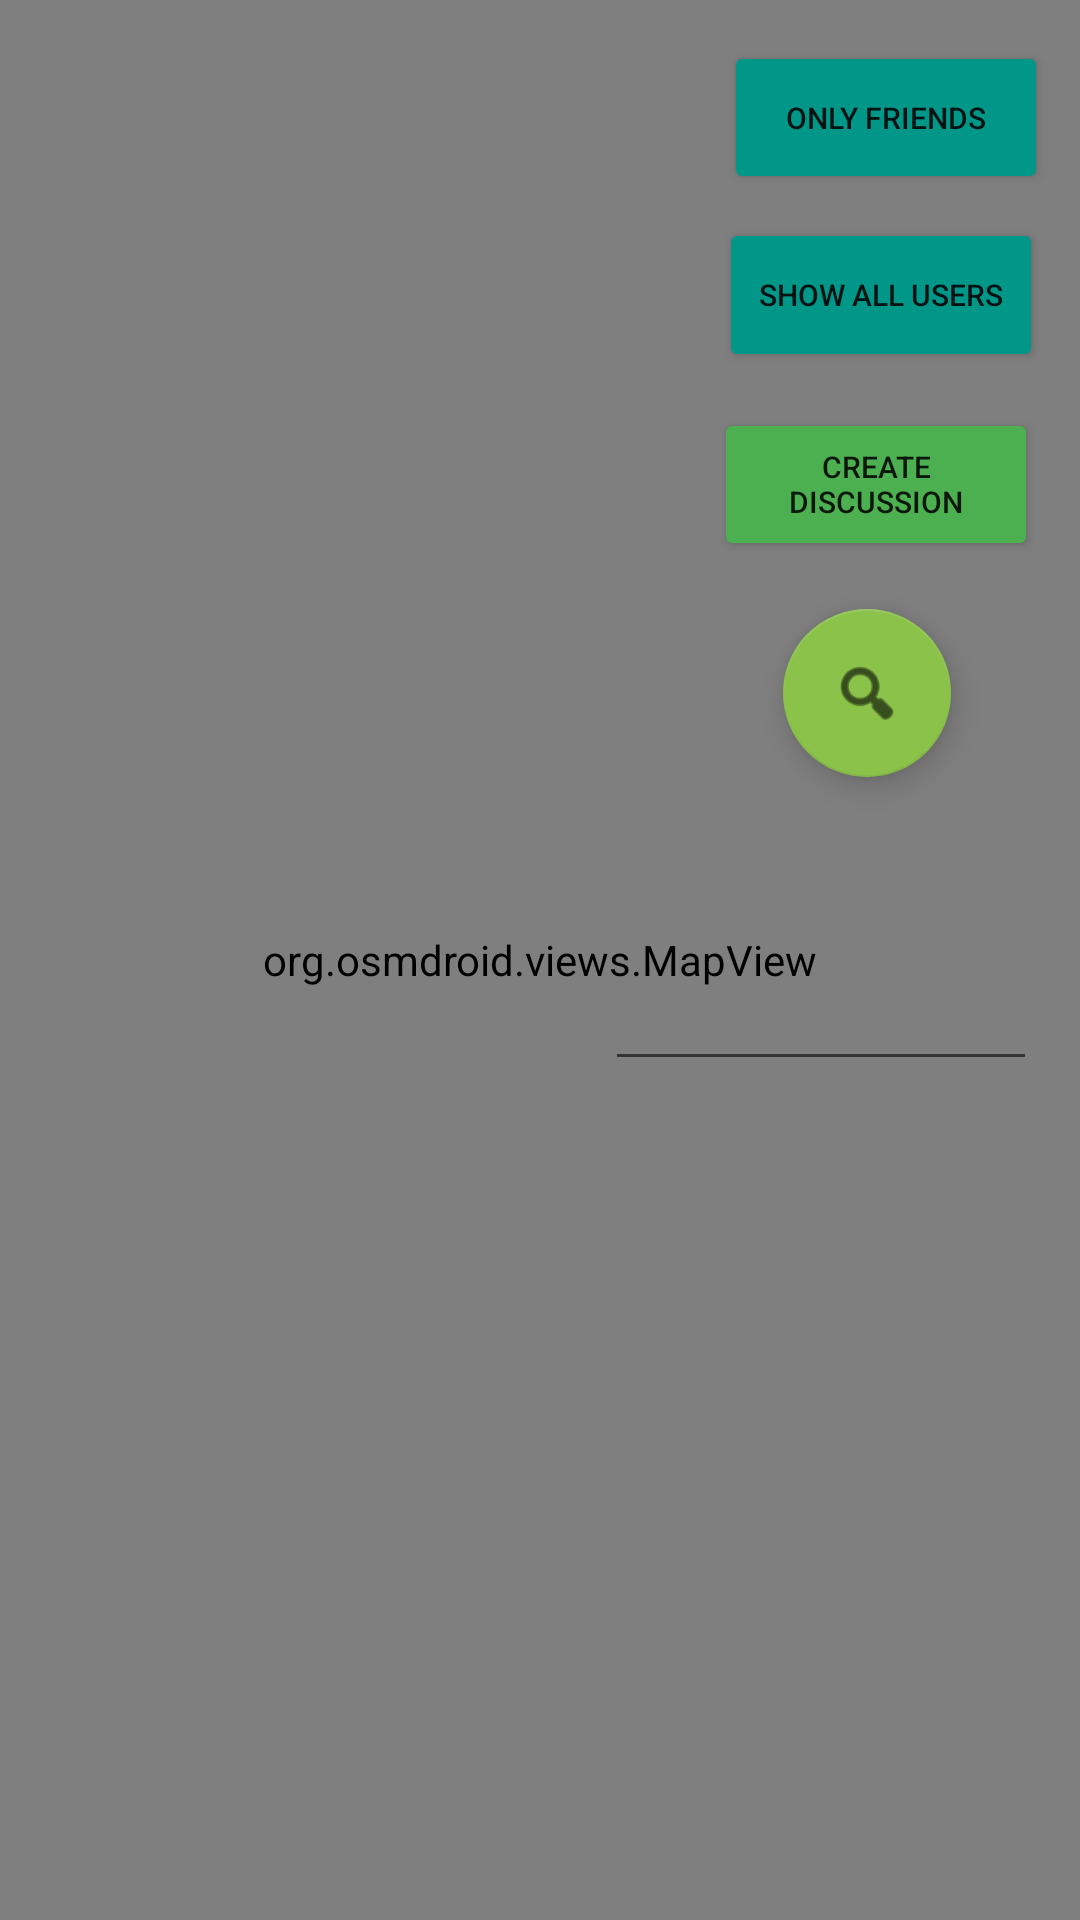

Named icons in this screenshot (1080×1920) and their centers, [x,y]:
search: [867,693]
